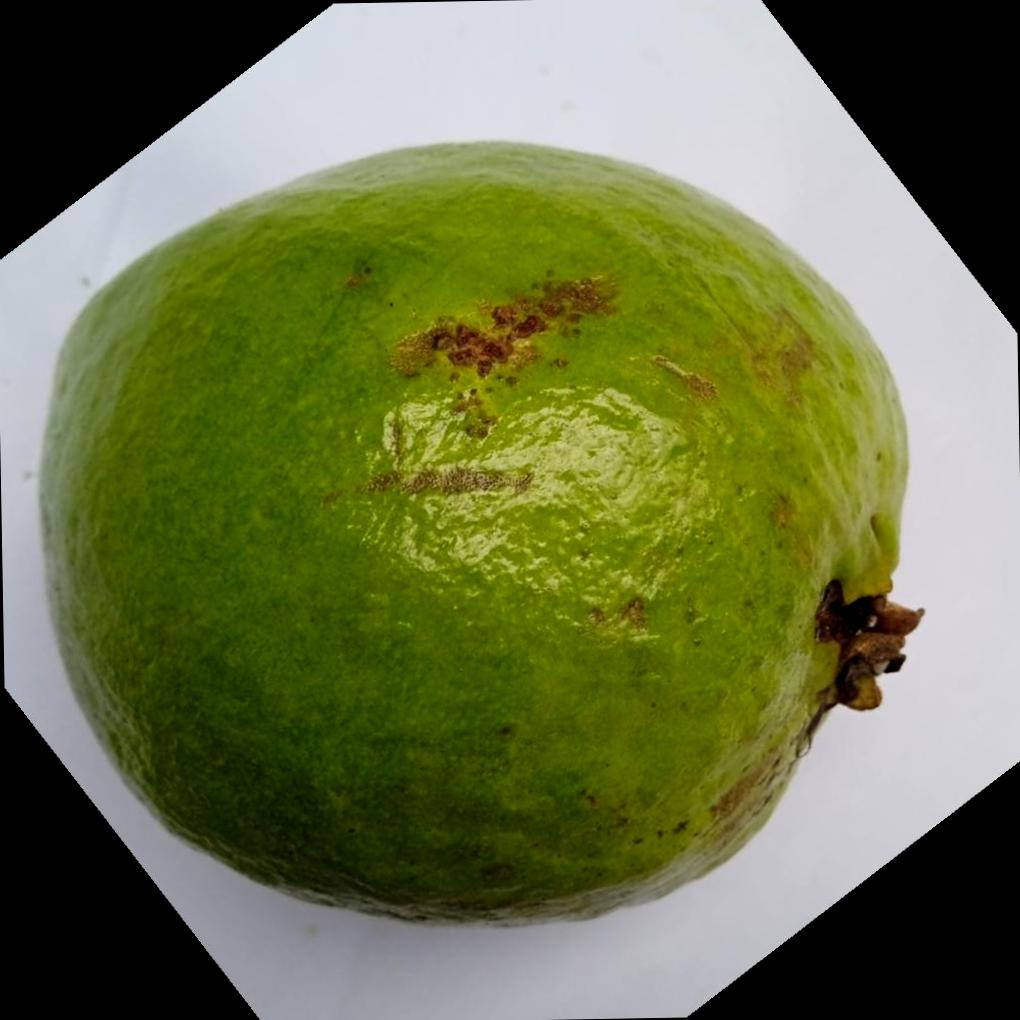FreshGuava: (31, 137, 921, 928)
